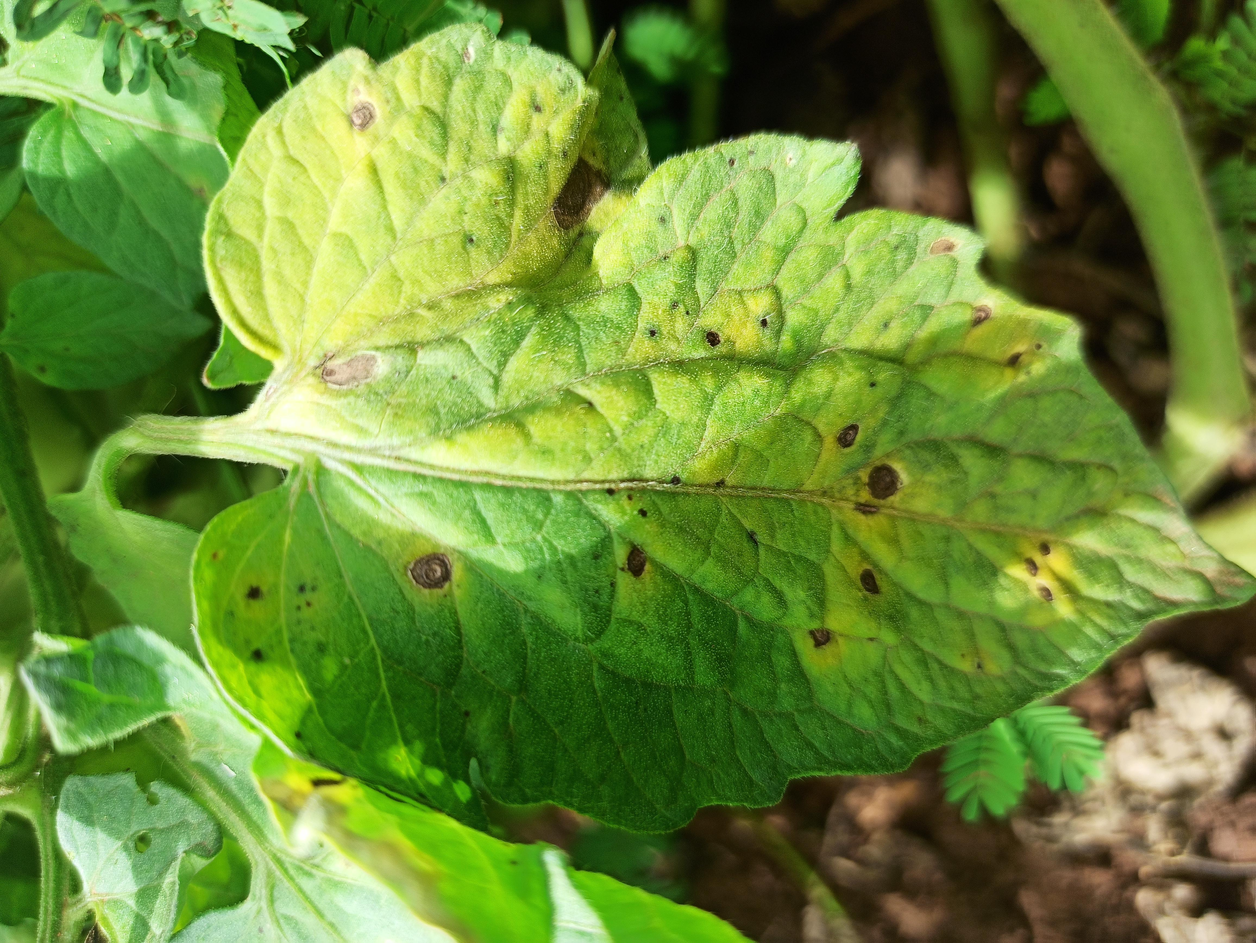Early Blight: (158, 147, 1221, 930)
